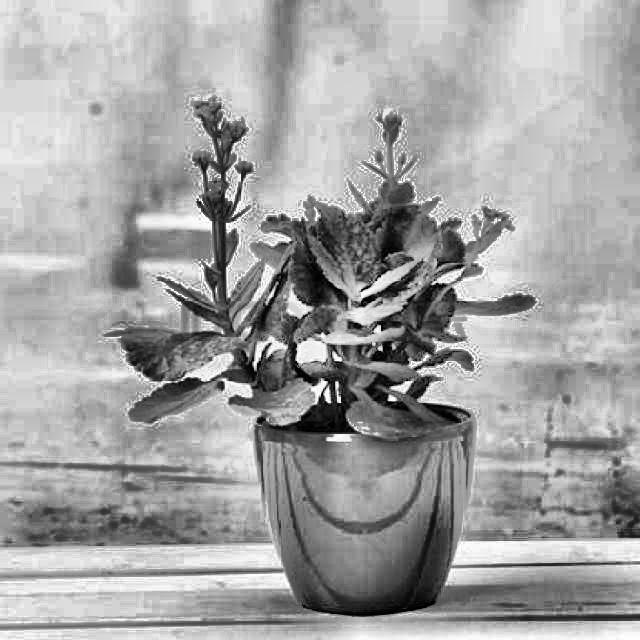plants: (172, 91, 554, 617)
